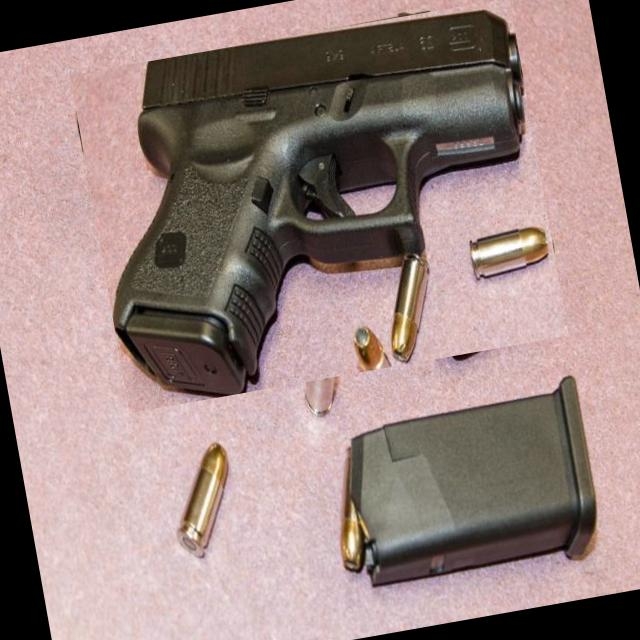Gun: (114, 10, 523, 394)
